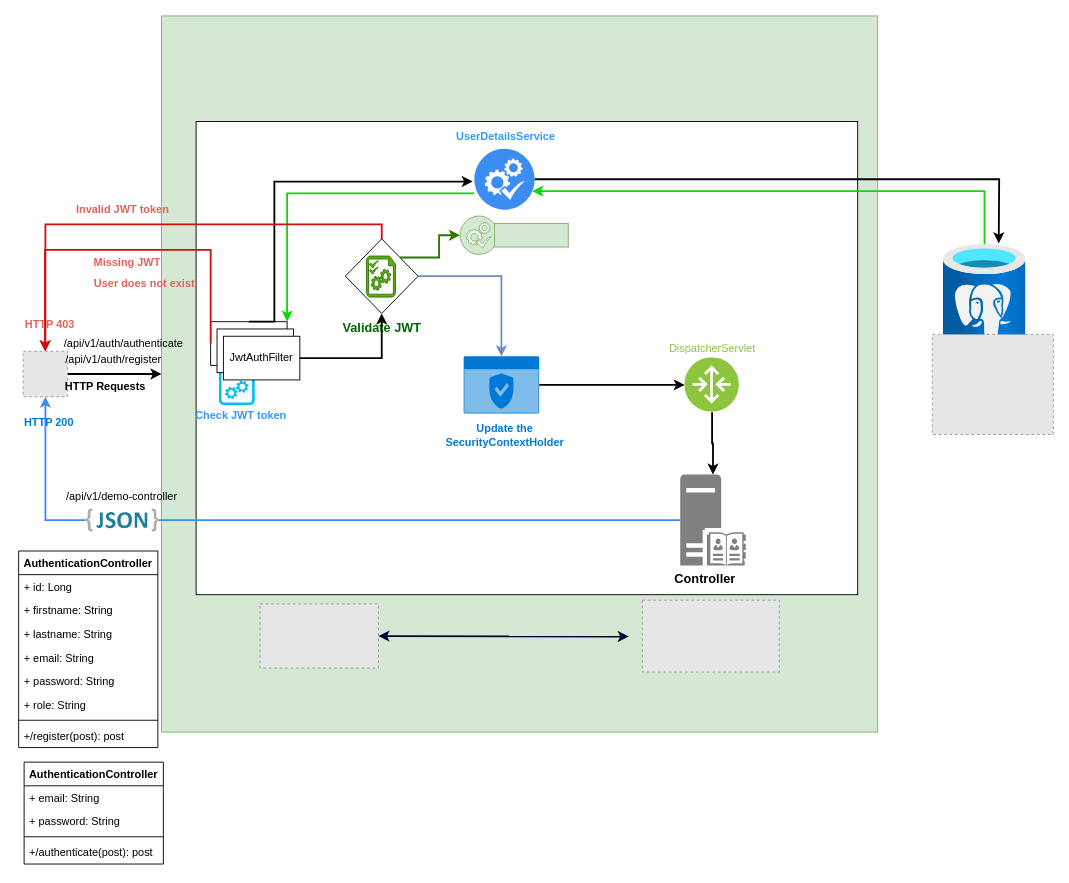
Some shapes in this 1069 by 883 pixel diagram are drawn without their labels. Grey dashed boxes stand in for pictures. The shapes that lost their labels are listed below. From the top down, each one's box as (x1, y1, x2, y2) in pixels, then its label:
(494, 222, 568, 247): JwtService
(463, 356, 539, 413): Security
